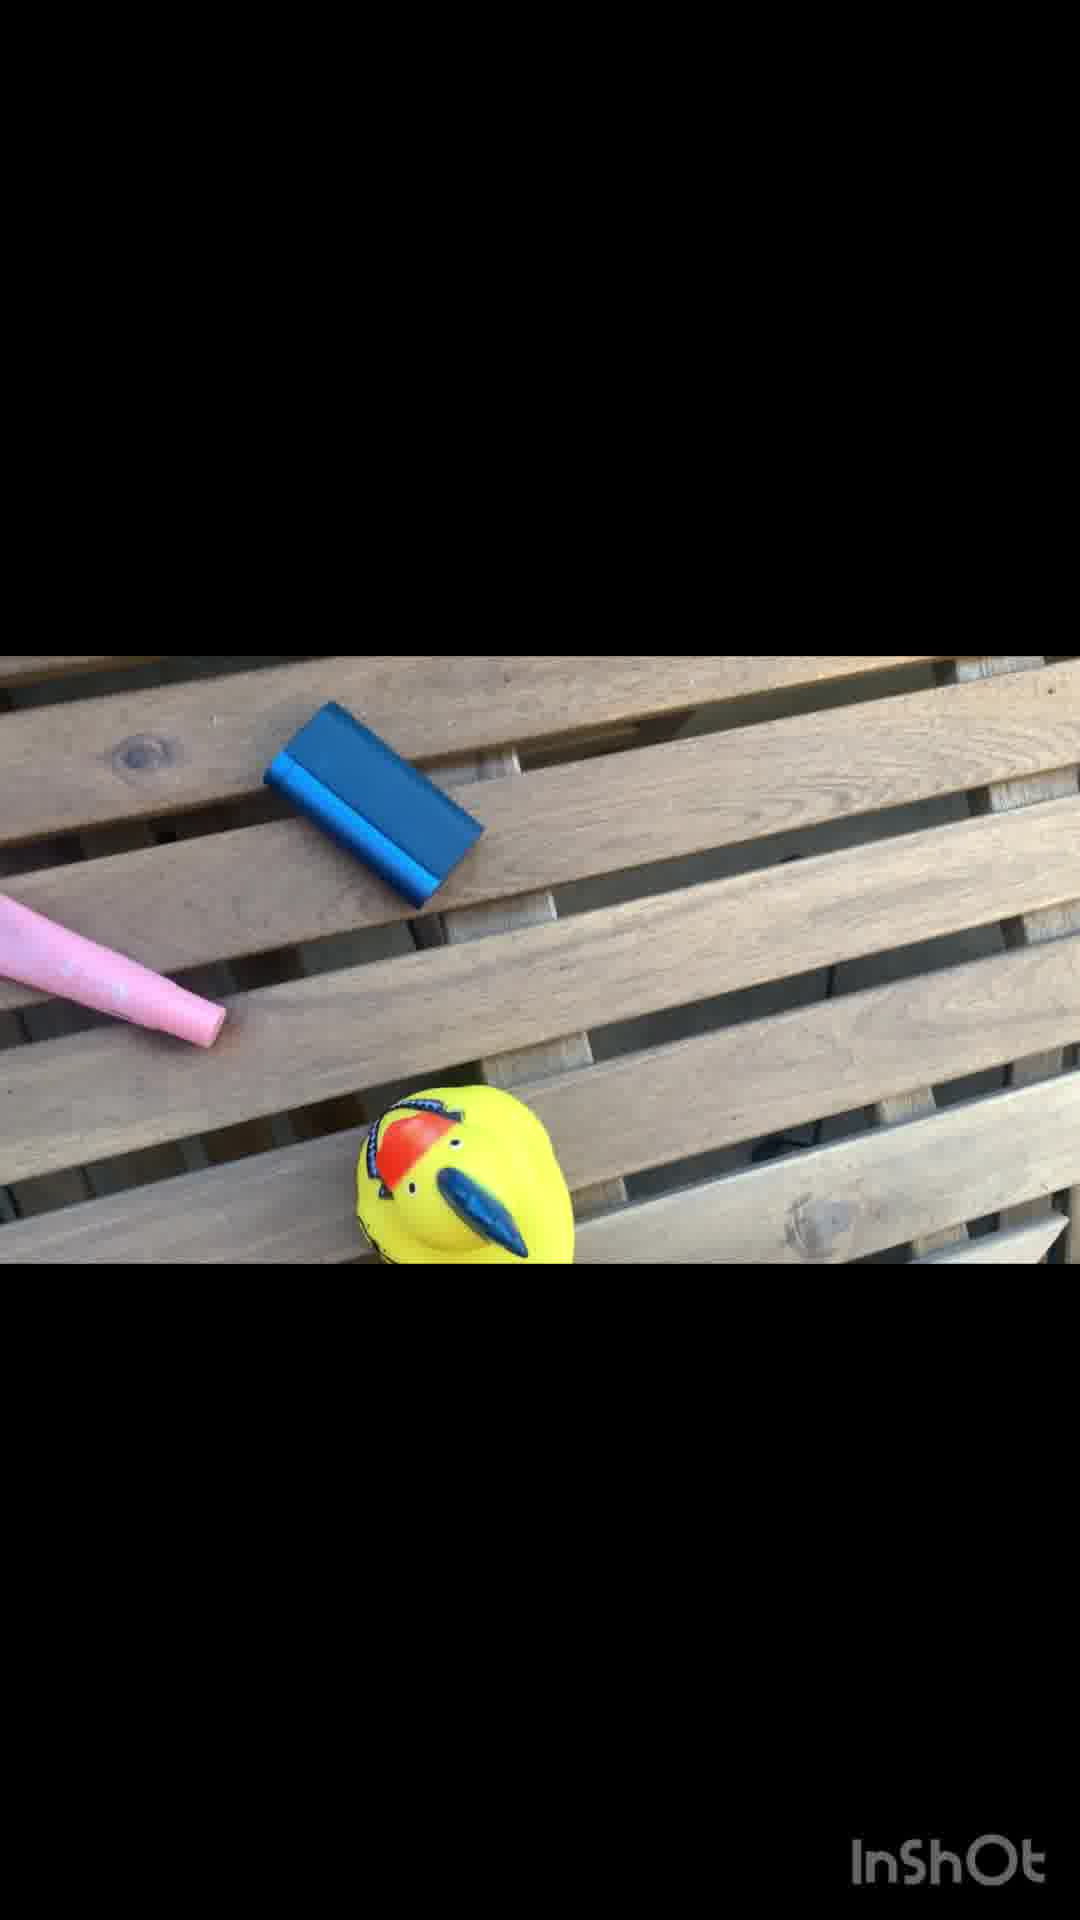duck: (345, 1083, 585, 1267)
glo: (256, 703, 491, 913)
lip balm: (1, 882, 233, 1064)
